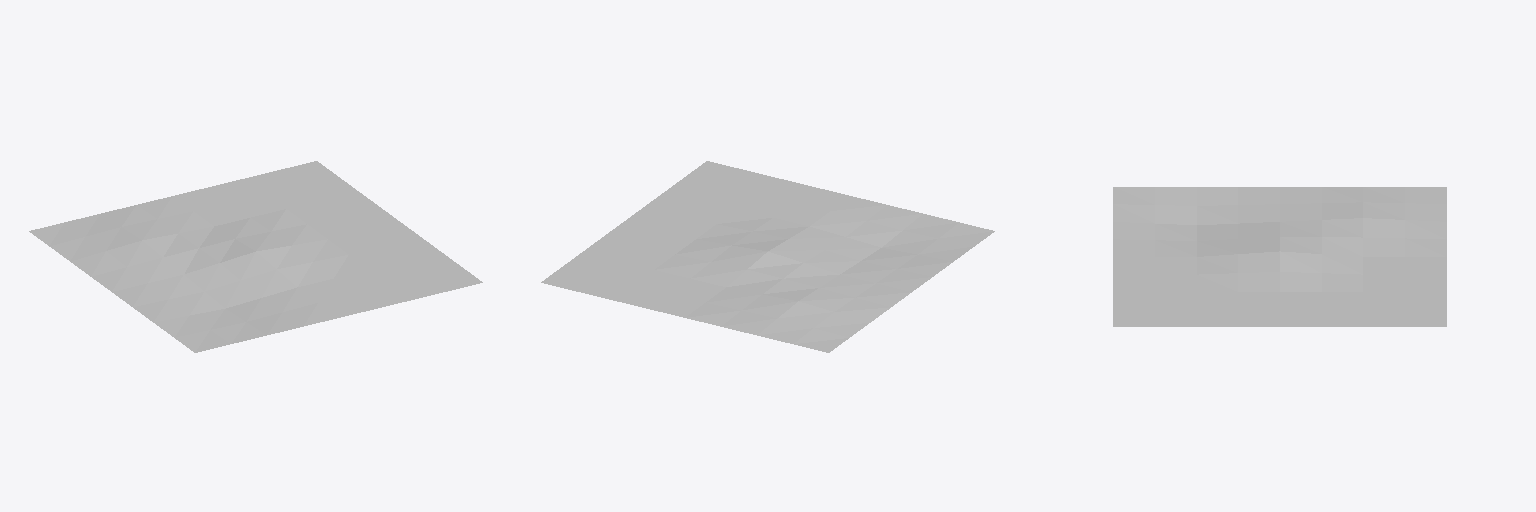
The model's file is water.obj.
3 renders of one model, left to right at view 1: azimuth 30°, elevation 25°; view 2: azimuth 150°, elevation 25°; view 3: azimuth 270°, elevation 25°, orthographic.
Parts seen in each view (by area): view 1: Plane; view 2: Plane; view 3: Plane.
Boxes of the visible parts, x1,y1,x2,y2 form: Plane: [29, 161, 482, 352]; Plane: [541, 161, 994, 352]; Plane: [1113, 187, 1446, 326].
Bounding box in the file's own units: 512 × 15.4 × 512.